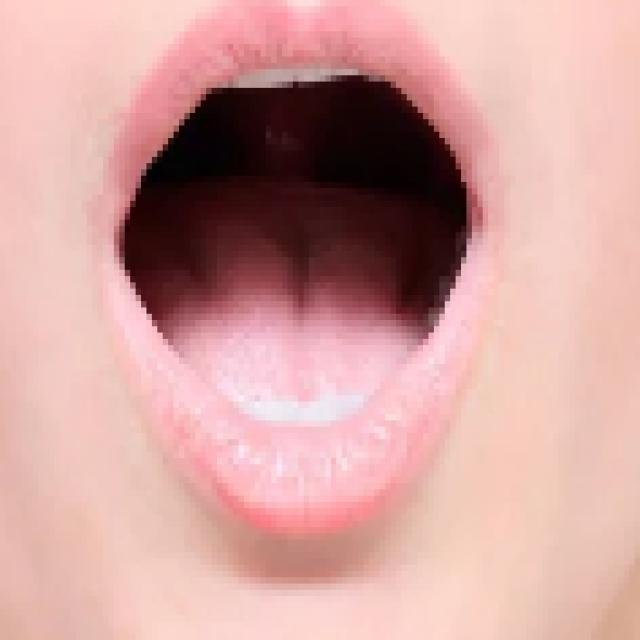No Cancer: (136, 48, 500, 340)
